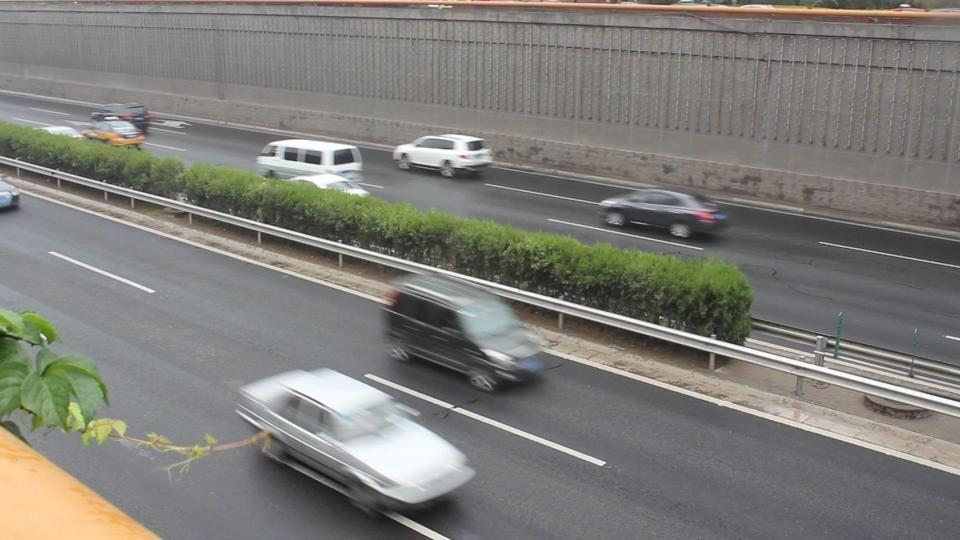car: (233, 368, 475, 518), (381, 273, 553, 392), (598, 188, 732, 241), (256, 137, 364, 183), (393, 133, 494, 178), (88, 102, 147, 136), (84, 119, 146, 148), (0, 178, 21, 212)
